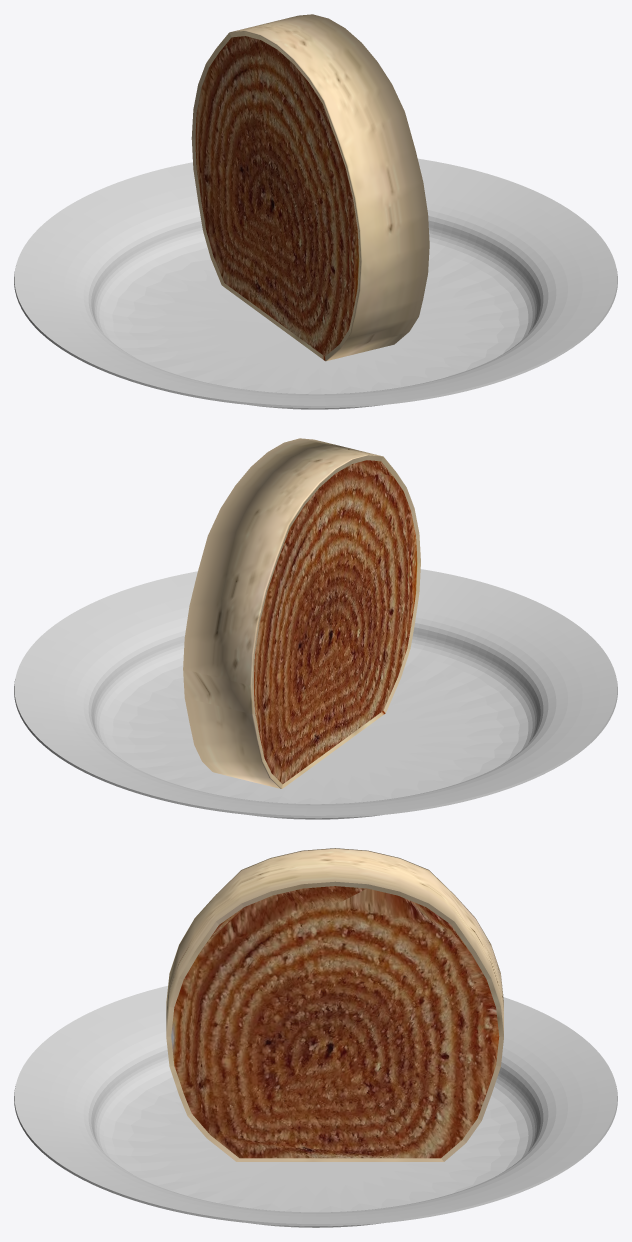
Rendered from boloDeRoloOnAPlate.glb.
3 renders of one model, top to bottom at view 1: azimuth 30°, elevation 25°; view 2: azimuth 150°, elevation 25°; view 3: azimuth 270°, elevation 25°, orthographic.
Visible parts, largest first — view 1: Circle, Cylinder; view 2: Circle, Cylinder; view 3: Cylinder, Circle.
Boxes of the visible parts, x1,y1,x2,y2 form: Circle: [14, 158, 617, 409]; Cylinder: [191, 14, 429, 361]; Circle: [14, 569, 617, 819]; Cylinder: [183, 438, 420, 788]; Cylinder: [166, 848, 503, 1161]; Circle: [14, 986, 617, 1227].
Bounding box in the file's own units: 2.61 × 1.35 × 2.61.
Materials: 2 (1 with a texture image).
